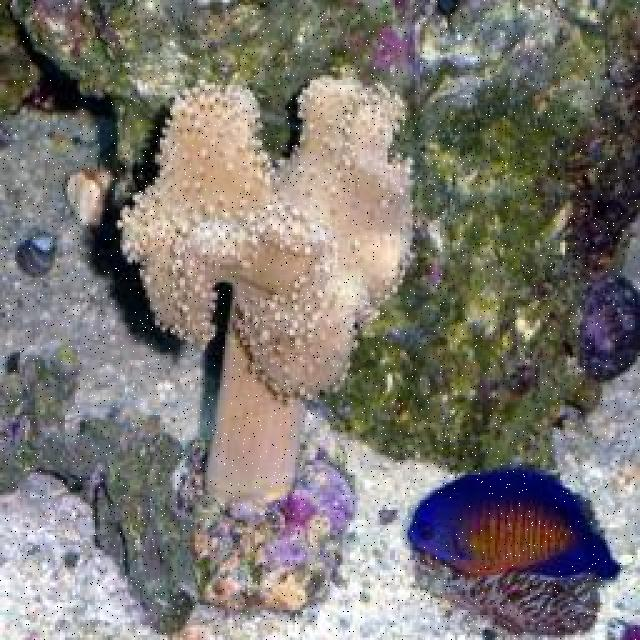fish: (408, 464, 622, 579)
reefs: (115, 65, 415, 523)
